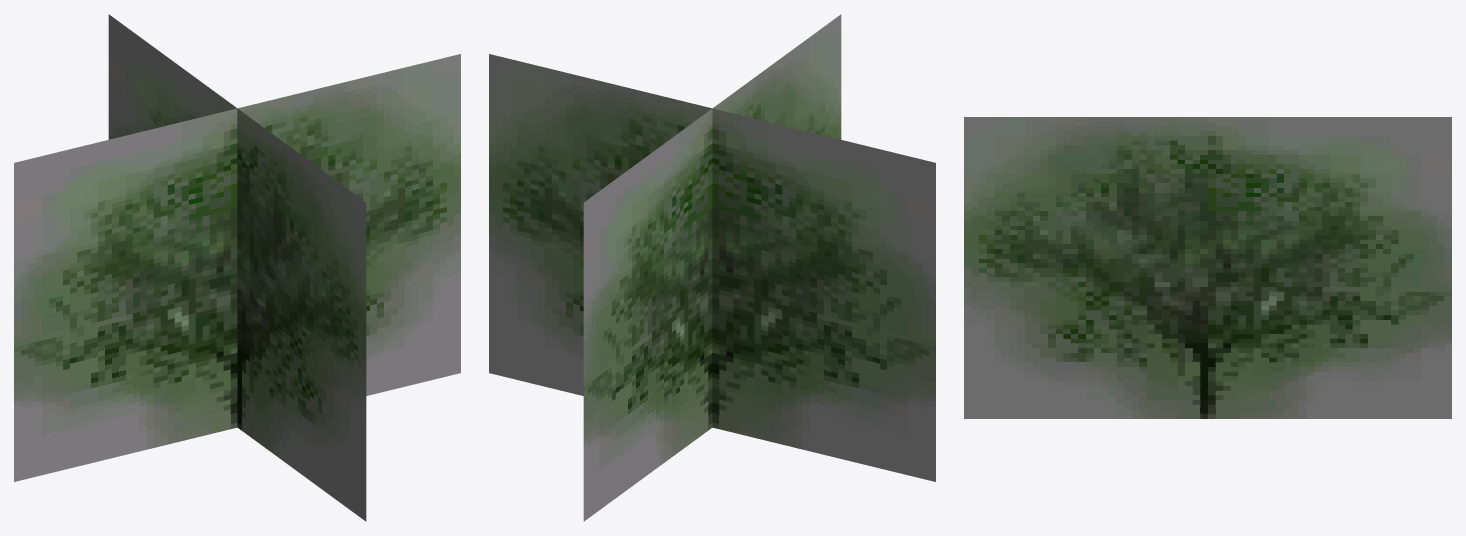
Rendered from shrb_leafy_sparse_green_l1.fbx.
3 renders of one model, left to right at view 1: azimuth 30°, elevation 25°; view 2: azimuth 150°, elevation 25°; view 3: azimuth 270°, elevation 25°, orthographic. The views are drawn at different scales.
Visible parts, largest first — view 1: mesh_node; view 2: mesh_node; view 3: mesh_node.
Boxes of the visible parts, left/top/right/bottom form: mesh_node: left=14, top=14, right=460, bottom=521; mesh_node: left=489, top=14, right=935, bottom=521; mesh_node: left=964, top=117, right=1451, bottom=418.
Bounding box in the file's own units: 1.23 × 0.8424 × 1.23.
